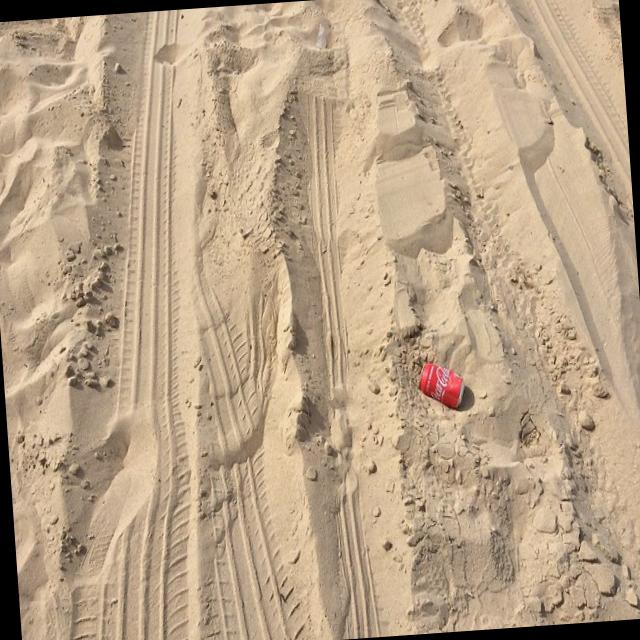Recycle: (415, 357, 469, 413)
